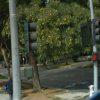Tree: (33, 2, 89, 67)
